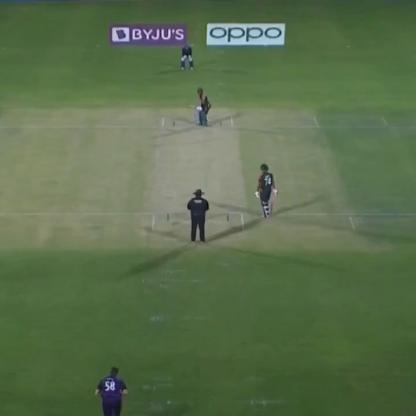pitch: (148, 113, 248, 241)
